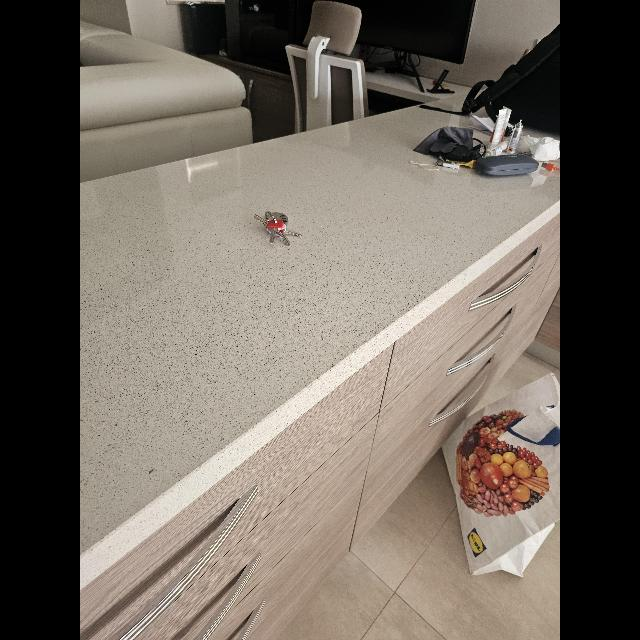Keys: (254, 210, 304, 246)
